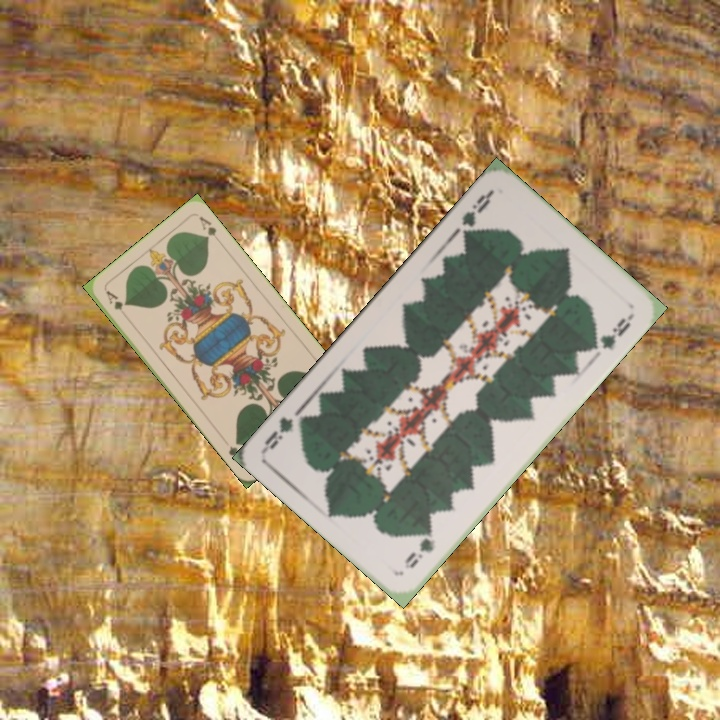G9: (457, 186, 496, 242), (400, 525, 438, 572)
GA: (101, 286, 126, 313)
